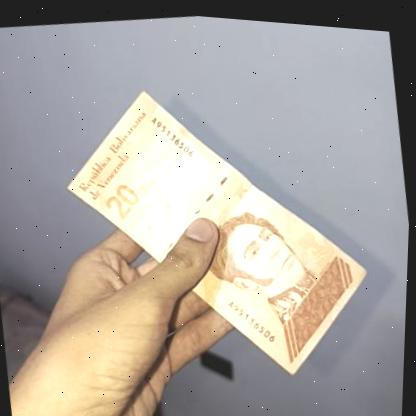twenty-front-vef: (48, 54, 388, 406)
